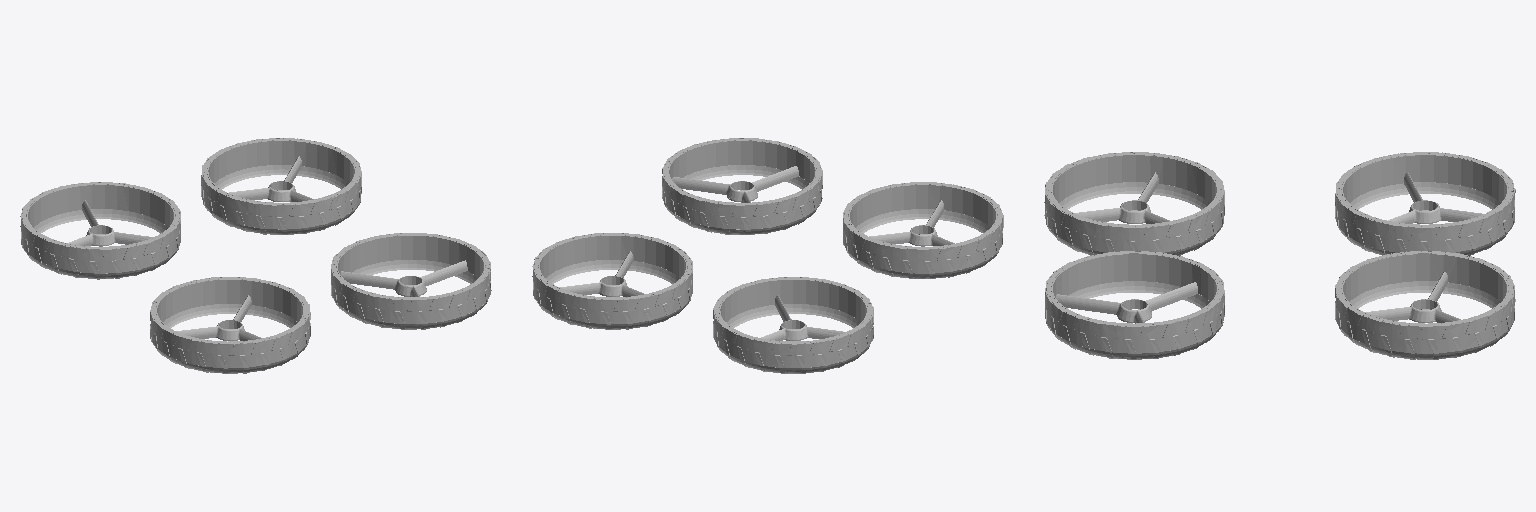
URDF robot description (M4 v2  Assembly URDF rotating wheels z up):
<?xml version="1.0" encoding="utf-8"?>
<!-- Author: [author] ([email redacted]) -->
<robot
  name="M4 v2  Assembly URDF rotating wheels z up">
  <link
    name="base_link">
    <inertial>
      <origin
        xyz="-0.018276 0.00049378 0.068096"
        rpy="0 0 0" />
      <mass
        value="2.0875" />
      <inertia
        ixx="0.0026673"
        ixy="-2.9024E-06"
        ixz="-1.2076E-05"
        iyy="0.0024337"
        iyz="-2.1607E-06"
        izz="0.0018633" />
    </inertial>
    <visual>
      <origin
        xyz="0 0 0"
        rpy="0 0 0" />
      <geometry>
        <mesh
          filename="package://M4 v2  Assembly URDF rotating wheels z up/meshes/base_link.STL" />
      </geometry>
      <material
        name="">
        <color
          rgba="0.75294 0.75294 0.75294 1" />
      </material>
    </visual>
    <collision>
      <origin
        xyz="0 0 0"
        rpy="0 0 0" />
      <geometry>
        <mesh
          filename="package://M4 v2  Assembly URDF rotating wheels z up/meshes/base_link.STL" />
      </geometry>
    </collision>
  </link>
  <link
    name="arml">
    <inertial>
      <origin
        xyz="0.00014974 0.10568 0.013666"
        rpy="0 0 0" />
      <mass
        value="0.78267" />
      <inertia
        ixx="0.00059441"
        ixy="5.5135E-08"
        ixz="-2.6815E-07"
        iyy="0.0018939"
        iyz="8.8049E-08"
        izz="0.0023095" />
    </inertial>
    <visual>
      <origin
        xyz="0 0 0"
        rpy="0 0 0" />
      <geometry>
        <mesh
          filename="package://M4 v2  Assembly URDF rotating wheels z up/meshes/arml.STL" />
      </geometry>
      <material
        name="">
        <color
          rgba="0.75294 0.75294 0.75294 1" />
      </material>
    </visual>
    <collision>
      <origin
        xyz="0 0 0"
        rpy="0 0 0" />
      <geometry>
        <mesh
          filename="package://M4 v2  Assembly URDF rotating wheels z up/meshes/arml.STL" />
      </geometry>
    </collision>
  </link>
  <joint
    name="base_to_arml"
    type="revolute">
    <origin
      xyz="-0.00013437 0.068076 0.094"
      rpy="0 0 0" />
    <parent
      link="base_link" />
    <child
      link="arml" />
    <axis
      xyz="-1 0 0" />
    <limit
      lower="0"
      upper="1.5707"
      effort="0"
      velocity="0" />
  </joint>
  <link
    name="rotor1">
    <inertial>
      <origin
        xyz="4.2406E-06 -8.2577E-06 -0.00088754"
        rpy="0 0 0" />
      <mass
        value="0.0071413" />
      <inertia
        ixx="7.3172E-06"
        ixy="1.9481E-10"
        ixz="-2.2562E-11"
        iyy="7.3132E-06"
        iyz="3.6224E-11"
        izz="1.4546E-05" />
    </inertial>
    <visual>
      <origin
        xyz="0 0 0"
        rpy="0 0 0" />
      <geometry>
        <mesh
          filename="package://M4 v2  Assembly URDF rotating wheels z up/meshes/rotor1.STL" />
      </geometry>
      <material
        name="">
        <color
          rgba="0.11373 0.11373 0.11373 1" />
      </material>
    </visual>
    <collision>
      <origin
        xyz="0 0 0"
        rpy="0 0 0" />
      <geometry>
        <mesh
          filename="package://M4 v2  Assembly URDF rotating wheels z up/meshes/rotor1.STL" />
      </geometry>
    </collision>
  </link>
  <joint
    name="arml_to_rotor1"
    type="revolute">
    <origin
      xyz="-0.16509 0.13673 0.069563"
      rpy="0 0 0" />
    <parent
      link="arml" />
    <child
      link="rotor1" />
    <axis
      xyz="0 0 1" />
    <limit
      lower="-100000000"
      upper="100000000"
      effort="0"
      velocity="0" />
  </joint>
  <link
    name="rotor2">
    <inertial>
      <origin
        xyz="-1.17737169622045E-05 1.12252540674929E-05 -0.000889290280344374"
        rpy="0 0 0" />
      <mass
        value="0.00714564013108659" />
      <inertia
        ixx="7.31758327555066E-06"
        ixy="2.54896915952875E-09"
        ixz="-4.24451322079936E-13"
        iyy="7.31701768202222E-06"
        iyz="1.76818284103311E-10"
        izz="1.45498127662999E-05" />
    </inertial>
    <visual>
      <origin
        xyz="0 0 0"
        rpy="0 0 0" />
      <geometry>
        <mesh
          filename="package://M4 v2  Assembly URDF rotating wheels z up/meshes/rotor2.STL" />
      </geometry>
      <material
        name="">
        <color
          rgba="1 1 1 1" />
      </material>
    </visual>
    <collision>
      <origin
        xyz="0 0 0"
        rpy="0 0 0" />
      <geometry>
        <mesh
          filename="package://M4 v2  Assembly URDF rotating wheels z up/meshes/rotor2.STL" />
      </geometry>
    </collision>
  </link>
  <joint
    name="arml_to_rotor2"
    type="revolute">
    <origin
      xyz="0.16491 0.13673 0.069563"
      rpy="0 0 0" />
    <parent
      link="arml" />
    <child
      link="rotor2" />
    <axis
      xyz="0 0 1" />
    <limit
      lower="-100000000"
      upper="100000000"
      effort="0"
      velocity="0" />
  </joint>
  <link
    name="wheel1">
    <inertial>
      <origin
        xyz="-2.08052685894689E-06 3.65370608023524E-06 0.00399517595201851"
        rpy="0 0 0" />
      <mass
        value="0.290684225280697" />
      <inertia
        ixx="0.00194912421235172"
        ixy="5.9281624746263E-08"
        ixz="-2.21930431817214E-09"
        iyy="0.0019490736447665"
        iyz="-1.35083056578608E-09"
        izz="0.00385034804194369" />
    </inertial>
    <visual>
      <origin
        xyz="0 0 0"
        rpy="0 0 0" />
      <geometry>
        <mesh
          filename="package://M4 v2  Assembly URDF rotating wheels z up/meshes/wheel1.STL" />
      </geometry>
      <material
        name="">
        <color
          rgba="0.752941176470588 0.752941176470588 0.752941176470588 1" />
      </material>
    </visual>
    <collision>
      <origin
        xyz="0 0 0"
        rpy="0 0 0" />
      <geometry>
        <mesh
          filename="package://M4 v2  Assembly URDF rotating wheels z up/meshes/wheel1.STL" />
      </geometry>
    </collision>
  </link>
  <joint
    name="arml_to_wheel1"
    type="revolute">
    <origin
      xyz="-0.16509 0.13673 0.034438"
      rpy="0 0 0" />
    <parent
      link="arml" />
    <child
      link="wheel1" />
    <axis
      xyz="0 0 1" />
    <limit
      lower="-100000000"
      upper="100000000"
      effort="0"
      velocity="0" />
  </joint>
  <link
    name="wheel2">
    <inertial>
      <origin
        xyz="-2.24392517567118E-07 4.21097307244656E-06 0.00399517328665498"
        rpy="0 0 0" />
      <mass
        value="0.290684075605273" />
      <inertia
        ixx="0.00194916054508742"
        ixy="1.56598641853391E-08"
        ixz="-2.6268153785502E-09"
        iyy="0.00194903594875042"
        iyz="-2.60692636423233E-10"
        izz="0.00385034668266541" />
    </inertial>
    <visual>
      <origin
        xyz="0 0 0"
        rpy="0 0 0" />
      <geometry>
        <mesh
          filename="package://M4 v2  Assembly URDF rotating wheels z up/meshes/wheel2.STL" />
      </geometry>
      <material
        name="">
        <color
          rgba="0.752941176470588 0.752941176470588 0.752941176470588 1" />
      </material>
    </visual>
    <collision>
      <origin
        xyz="0 0 0"
        rpy="0 0 0" />
      <geometry>
        <mesh
          filename="package://M4 v2  Assembly URDF rotating wheels z up/meshes/wheel2.STL" />
      </geometry>
    </collision>
  </link>
  <joint
    name="arml_to_wheel2"
    type="revolute">
    <origin
      xyz="0.16491 0.13673 0.034438"
      rpy="0 0 0" />
    <parent
      link="arml" />
    <child
      link="wheel2" />
    <axis
      xyz="0 0 1" />
    <limit
      lower="-100000000"
      upper="100000000"
      effort="0"
      velocity="0" />
  </joint>
  <link
    name="armr">
    <inertial>
      <origin
        xyz="0 0 0"
        rpy="0 0 0" />
      <mass
        value="0" />
      <inertia
        ixx="0"
        ixy="0"
        ixz="0"
        iyy="0"
        iyz="0"
        izz="0" />
    </inertial>
    <visual>
      <origin
        xyz="0 0 0"
        rpy="0 0 0" />
      <geometry>
        <mesh
          filename="package://M4 v2  Assembly URDF rotating wheels z up/meshes/armr.STL" />
      </geometry>
      <material
        name="">
        <color
          rgba="1 1 1 1" />
      </material>
    </visual>
    <collision>
      <origin
        xyz="0 0 0"
        rpy="0 0 0" />
      <geometry>
        <mesh
          filename="package://M4 v2  Assembly URDF rotating wheels z up/meshes/armr.STL" />
      </geometry>
    </collision>
  </link>
  <joint
    name="base_to_armr"
    type="revolute">
    <origin
      xyz="-0.00013437 -0.067924 0.094"
      rpy="0 0 0" />
    <parent
      link="base_link" />
    <child
      link="armr" />
    <axis
      xyz="1 0 0" />
    <limit
      lower="0"
      upper="1.5707"
      effort="0"
      velocity="0" />
  </joint>
  <link
    name="rotor0">
    <inertial>
      <origin
        xyz="-7.26046054677632E-06 -8.97346881911787E-07 -0.000887642007110126"
        rpy="0 0 0" />
      <mass
        value="0.00714107560950859" />
      <inertia
        ixx="7.31411492495745E-06"
        ixy="-1.23711344772355E-09"
        ixz="8.37416881128931E-11"
        iyy="7.31669024362818E-06"
        iyz="8.66562695820946E-12"
        izz="1.45461672125735E-05" />
    </inertial>
    <visual>
      <origin
        xyz="0 0 0"
        rpy="0 0 0" />
      <geometry>
        <mesh
          filename="package://M4 v2  Assembly URDF rotating wheels z up/meshes/rotor0.STL" />
      </geometry>
      <material
        name="">
        <color
          rgba="0.113725490196078 0.113725490196078 0.113725490196078 1" />
      </material>
    </visual>
    <collision>
      <origin
        xyz="0 0 0"
        rpy="0 0 0" />
      <geometry>
        <mesh
          filename="package://M4 v2  Assembly URDF rotating wheels z up/meshes/rotor0.STL" />
      </geometry>
    </collision>
  </link>
  <joint
    name="armr_to_rotor0"
    type="revolute">
    <origin
      xyz="0.16491 -0.13673 0.069563"
      rpy="0 0 0" />
    <parent
      link="armr" />
    <child
      link="rotor0" />
    <axis
      xyz="0 0 1" />
    <limit
      lower="-100000000"
      upper="100000000"
      effort="0"
      velocity="0" />
  </joint>
  <link
    name="rotor3">
    <inertial>
      <origin
        xyz="1.10500009720266E-05 6.26509832979405E-06 -0.000889132575548263"
        rpy="0 0 0" />
      <mass
        value="0.00714453428384151" />
      <inertia
        ixx="7.31725920126809E-06"
        ixy="-3.03590296499141E-10"
        ixz="1.29978621014555E-10"
        iyy="7.31363932365635E-06"
        iyz="3.8654868508442E-11"
        izz="1.45460580990401E-05" />
    </inertial>
    <visual>
      <origin
        xyz="0 0 0"
        rpy="0 0 0" />
      <geometry>
        <mesh
          filename="package://M4 v2  Assembly URDF rotating wheels z up/meshes/rotor3.STL" />
      </geometry>
      <material
        name="">
        <color
          rgba="1 1 1 1" />
      </material>
    </visual>
    <collision>
      <origin
        xyz="0 0 0"
        rpy="0 0 0" />
      <geometry>
        <mesh
          filename="package://M4 v2  Assembly URDF rotating wheels z up/meshes/rotor3.STL" />
      </geometry>
    </collision>
  </link>
  <joint
    name="armr_to_rotor3"
    type="revolute">
    <origin
      xyz="-0.16509 -0.13673 0.069562"
      rpy="0 0 0" />
    <parent
      link="armr" />
    <child
      link="rotor3" />
    <axis
      xyz="0 0 1" />
    <limit
      lower="-100000000"
      upper="100000000"
      effort="0"
      velocity="0" />
  </joint>
  <link
    name="wheel0">
    <inertial>
      <origin
        xyz="-4.20770534262371E-06 7.41925555436396E-08 0.00399517099050151"
        rpy="0 0 0" />
      <mass
        value="0.290684175940761" />
      <inertia
        ixx="0.00194903465525589"
        ixy="-6.33697898951187E-09"
        ixz="4.44651458394226E-11"
        iyy="0.00194916277425697"
        iyz="-2.62305408017566E-09"
        izz="0.00385034763388815" />
    </inertial>
    <visual>
      <origin
        xyz="0 0 0"
        rpy="0 0 0" />
      <geometry>
        <mesh
          filename="package://M4 v2  Assembly URDF rotating wheels z up/meshes/wheel0.STL" />
      </geometry>
      <material
        name="">
        <color
          rgba="0.752941176470588 0.752941176470588 0.752941176470588 1" />
      </material>
    </visual>
    <collision>
      <origin
        xyz="0 0 0"
        rpy="0 0 0" />
      <geometry>
        <mesh
          filename="package://M4 v2  Assembly URDF rotating wheels z up/meshes/wheel0.STL" />
      </geometry>
    </collision>
  </link>
  <joint
    name="armr_to_wheel0"
    type="revolute">
    <origin
      xyz="0.16491 -0.13673 0.034438"
      rpy="0 0 0" />
    <parent
      link="armr" />
    <child
      link="wheel0" />
    <axis
      xyz="0 0 1" />
    <limit
      lower="-100000000"
      upper="100000000"
      effort="0"
      velocity="0" />
  </joint>
  <link
    name="wheel3">
    <inertial>
      <origin
        xyz="-3.54165642575677E-06 -2.26403105196837E-06 0.00399517826837899"
        rpy="0 0 0" />
      <mass
        value="0.290684234949803" />
      <inertia
        ixx="0.00194907969950151"
        ixy="-6.15111525100603E-08"
        ixz="1.46024132333957E-09"
        iyy="0.00194911816433328"
        iyz="-2.15717482123109E-09"
        izz="0.00385034804672442" />
    </inertial>
    <visual>
      <origin
        xyz="0 0 0"
        rpy="0 0 0" />
      <geometry>
        <mesh
          filename="package://M4 v2  Assembly URDF rotating wheels z up/meshes/wheel3.STL" />
      </geometry>
      <material
        name="">
        <color
          rgba="0.752941176470588 0.752941176470588 0.752941176470588 1" />
      </material>
    </visual>
    <collision>
      <origin
        xyz="0 0 0"
        rpy="0 0 0" />
      <geometry>
        <mesh
          filename="package://M4 v2  Assembly URDF rotating wheels z up/meshes/wheel3.STL" />
      </geometry>
    </collision>
  </link>
  <joint
    name="armr_to_wheel3"
    type="revolute">
    <origin
      xyz="-0.16509 -0.13673 0.034438"
      rpy="0 0 0" />
    <parent
      link="armr" />
    <child
      link="wheel3" />
    <axis
      xyz="0 0 1" />
    <limit
      lower="-100000000"
      upper="100000000"
      effort="0"
      velocity="0" />
  </joint>
</robot>

--- Facts derived from the render (not from the file) ---
The picture shows the robot from 3 angles, left to right: view 1: azimuth 30°, elevation 25°; view 2: azimuth 150°, elevation 25°; view 3: azimuth 270°, elevation 25°; orthographic projection.
Robot: M4 v2  Assembly URDF rotating wheels z up — 11 links, 10 joints (10 revolute); root link base_link; default pose: every joint at zero.
Links seen in each view (by area): view 1: wheel0, wheel3, wheel2, wheel1; view 2: wheel0, wheel1, wheel2, wheel3; view 3: wheel0, wheel2, wheel3, wheel1.
Boxes of the visible links, left/top/right/bottom form: wheel0: left=331, top=233, right=491, bottom=329; wheel3: left=150, top=277, right=310, bottom=373; wheel2: left=201, top=138, right=361, bottom=234; wheel1: left=20, top=182, right=180, bottom=279; wheel0: left=662, top=138, right=822, bottom=234; wheel1: left=713, top=277, right=873, bottom=373; wheel2: left=532, top=233, right=692, bottom=329; wheel3: left=843, top=182, right=1003, bottom=278; wheel0: left=1045, top=251, right=1224, bottom=359; wheel2: left=1335, top=251, right=1515, bottom=359; wheel3: left=1044, top=152, right=1224, bottom=255; wheel1: left=1335, top=152, right=1515, bottom=255.
Size in the robot's own frame: 0.5847 by 0.6642 by 0.057 metres.
Meshes: 11 distinct files referenced, 4 mesh visuals loaded (4 binary STL); not drawn: 7 (reference not matched to a file when rendering).